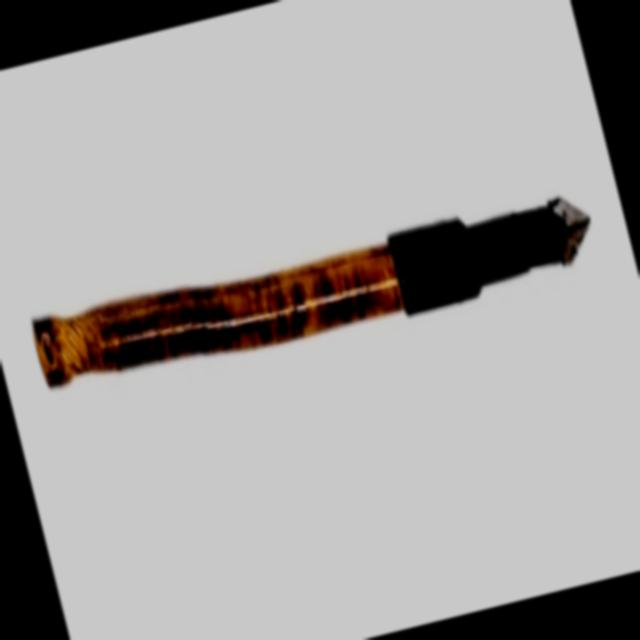spear: (15, 132, 625, 458)
